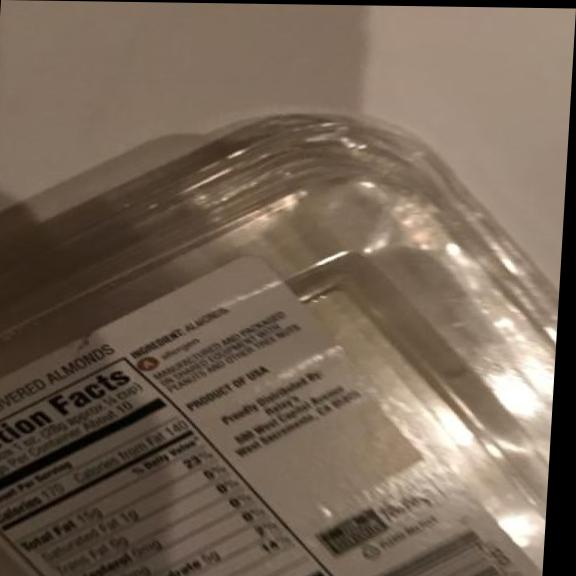Plastik: (0, 105, 567, 576)
